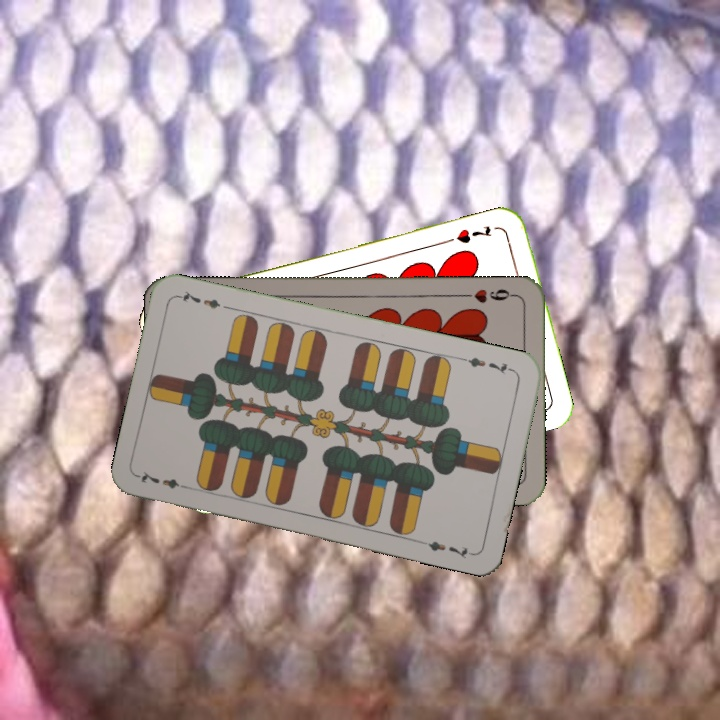E7: (135, 467, 193, 492), (458, 353, 517, 377)
H7: (452, 222, 495, 246)
H9: (459, 285, 518, 306)
